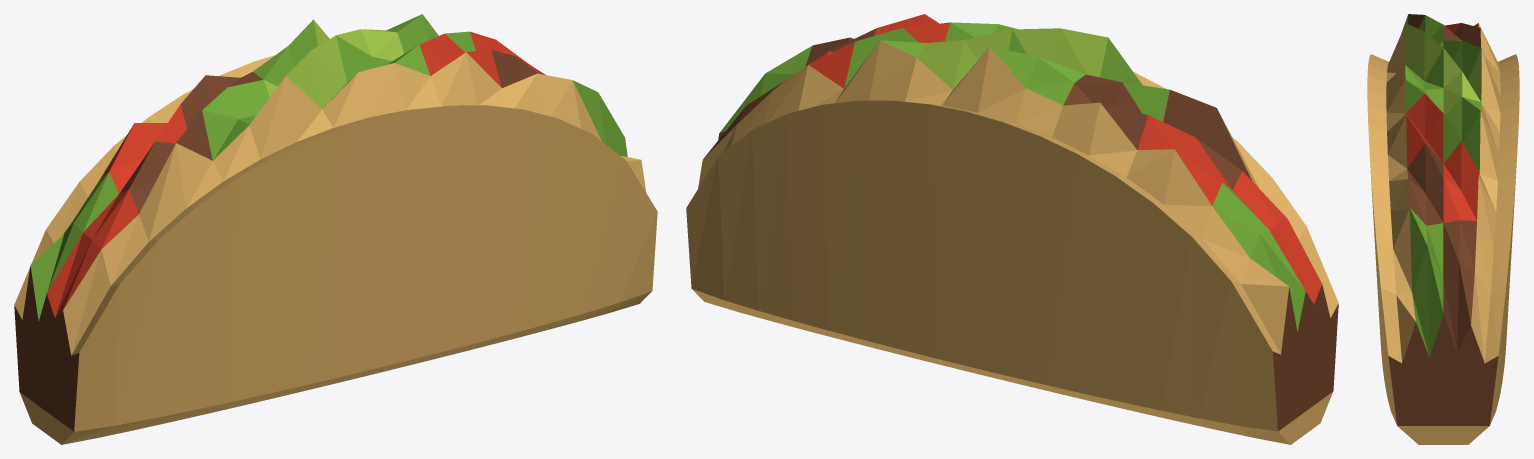
File: NEW_RECOVERY_059_LOD2.glb
3 views of the same model, side by side, from view 1: azimuth 30°, elevation 25°; view 2: azimuth 150°, elevation 25°; view 3: azimuth 270°, elevation 25° (orthographic). The views are drawn at different scales.
Visible parts, largest first — view 1: Whole taco; view 2: Whole taco; view 3: Whole taco.
Boxes of the visible parts, x1,y1,x2,y2 form: Whole taco: [14, 14, 657, 444]; Whole taco: [686, 14, 1338, 444]; Whole taco: [1367, 14, 1519, 444].
Size of the model in its own units: 2.3 by 1.25 by 0.62.
